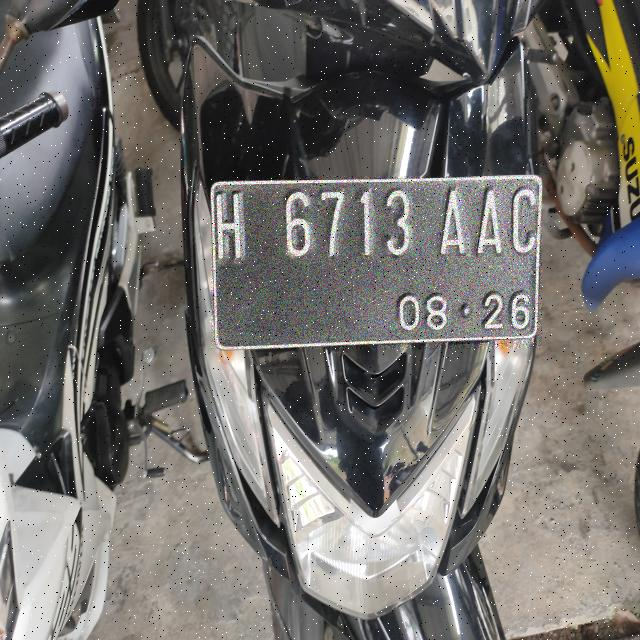plate: (212, 176, 541, 348)
